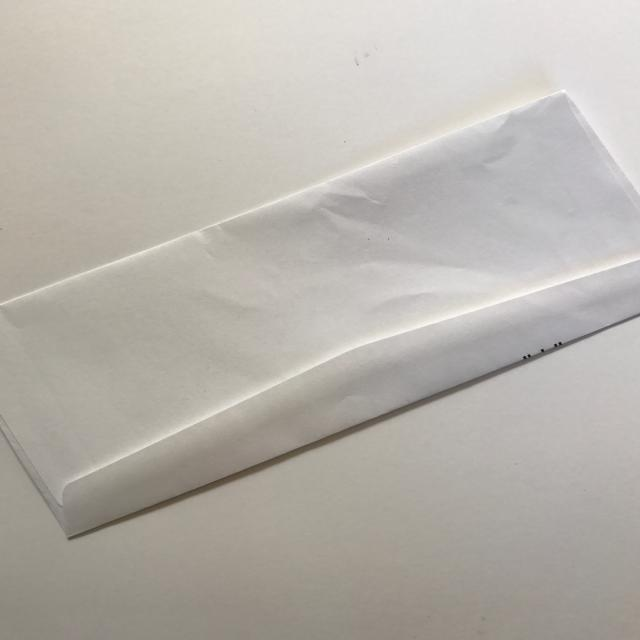paper: (0, 76, 640, 554)
